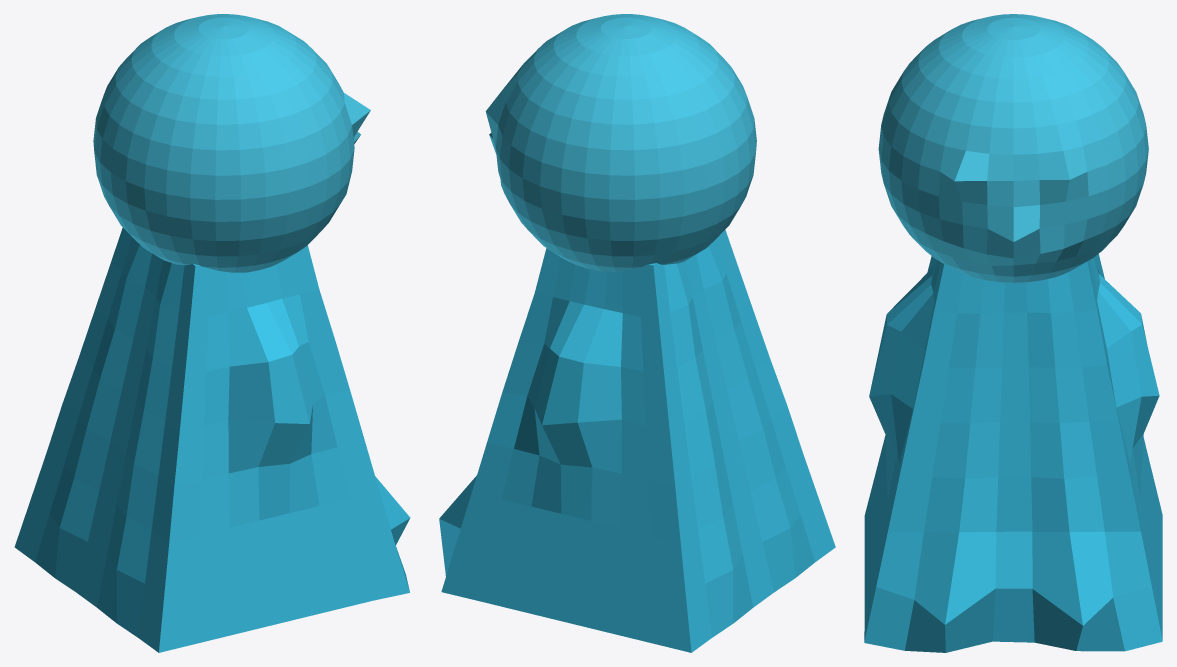
The model's file is player-blue.glb.
The picture shows the model from 3 angles, left to right: view 1: azimuth 30°, elevation 25°; view 2: azimuth 150°, elevation 25°; view 3: azimuth 270°, elevation 25°; orthographic projection. The views are drawn at different scales.
Parts seen in each view (by area): view 1: Cube, Sphere; view 2: Cube, Sphere; view 3: Cube, Sphere.
Boxes of the visible parts, x1,y1,x2,y2 form: Cube: (14,227,410,652); Sphere: (93,14,370,272); Cube: (439,229,835,652); Sphere: (485,14,756,271); Cube: (864,254,1162,652); Sphere: (878,14,1148,283).
Bounding box in the file's own units: 2.57 × 4.58 × 2.21.
